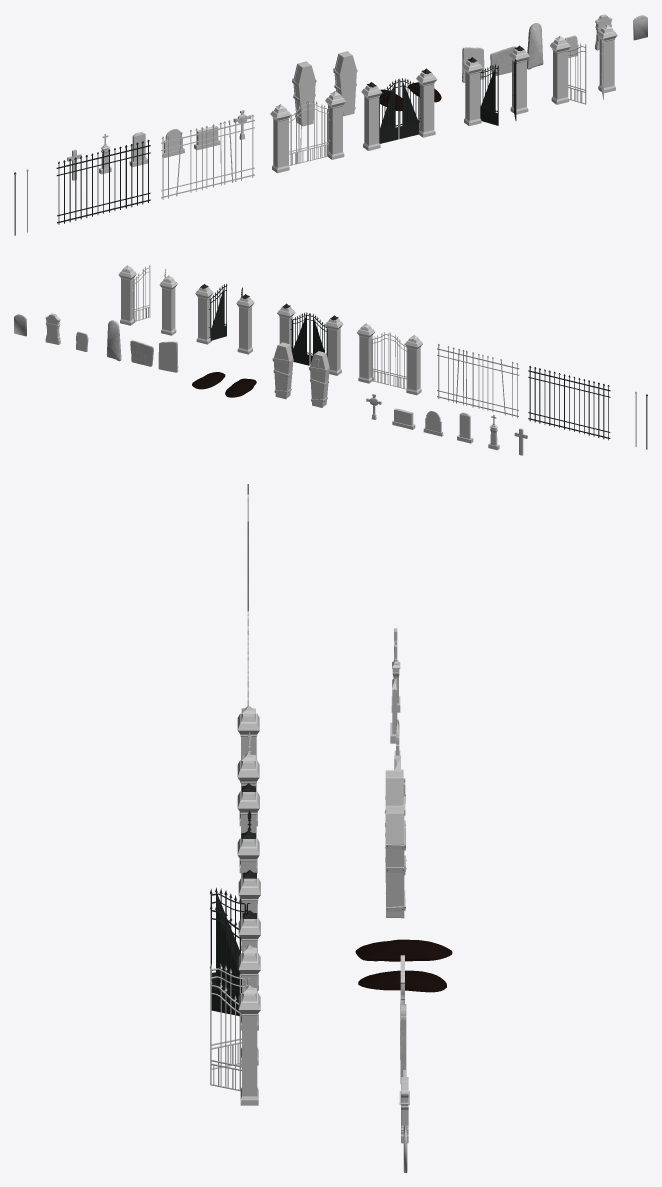
File: uploads_files_3453089_Cemetery.obj
3 views of the same model, one above another, from view 1: azimuth 30°, elevation 25°; view 2: azimuth 150°, elevation 25°; view 3: azimuth 270°, elevation 25° (orthographic). The views are drawn at different scales.
Visible parts, largest first — view 1: New_Cemetery_Gate_Closed, Old_Cemetery_Gate_Closed, New_Cemetery_Gate_Open, Old_Cemetery_Gate_Open, New_Fence, Old_Fence, Wooden_Coffin_With_a_Cross, Wooden_Coffin_Wooden_Coffin_, Headstone_4, Headstone_5, Headstone_8, Headstone_6 (+3 smaller); view 2: Old_Cemetery_Gate_Closed, New_Cemetery_Gate_Closed, New_Cemetery_Gate_Open, Old_Cemetery_Gate_Open, New_Fence, Old_Fence, Wooden_Coffin_Wooden_Coffin_, Wooden_Coffin_With_a_Cross, Headstone_6, Headstone_5, Headstone_4, Headstone_2 (+5 smaller); view 3: Old_Cemetery_Gate_Open, New_Cemetery_Gate_Open, Wooden_Coffin_Wooden_Coffin_, Grave_Ground_1, New_Cemetery_Gate_Closed, Old_Cemetery_Gate_Closed, Grave_Ground_2.
Boxes of the visible parts, x1=… form: New_Cemetery_Gate_Closed: x1=361, y1=68, x2=437, y2=150; Old_Cemetery_Gate_Closed: x1=270, y1=90, x2=345, y2=173; New_Cemetery_Gate_Open: x1=462, y1=45, x2=529, y2=126; Old_Cemetery_Gate_Open: x1=550, y1=24, x2=617, y2=104; New_Fence: x1=56, y1=139, x2=150, y2=224; Old_Fence: x1=161, y1=114, x2=254, y2=199; Wooden_Coffin_With_a_Cross: x1=292, y1=61, x2=316, y2=126; Wooden_Coffin_Wooden_Coffin_: x1=333, y1=51, x2=357, y2=116; Headstone_4: x1=527, y1=23, x2=543, y2=69; Headstone_5: x1=490, y1=46, x2=516, y2=75; Headstone_8: x1=129, y1=132, x2=147, y2=167; Headstone_6: x1=462, y1=47, x2=484, y2=82; Old_Cemetery_Gate_Closed: x1=357, y1=323, x2=422, y2=395; New_Cemetery_Gate_Closed: x1=277, y1=303, x2=343, y2=375; New_Cemetery_Gate_Open: x1=195, y1=283, x2=254, y2=354; Old_Cemetery_Gate_Open: x1=118, y1=265, x2=177, y2=335; New_Fence: x1=528, y1=366, x2=610, y2=440; Old_Fence: x1=437, y1=344, x2=519, y2=418; Wooden_Coffin_Wooden_Coffin_: x1=272, y1=342, x2=293, y2=399; Wooden_Coffin_With_a_Cross: x1=308, y1=351, x2=329, y2=407; Headstone_6: x1=158, y1=341, x2=178, y2=372; Headstone_5: x1=130, y1=340, x2=153, y2=366; Headstone_4: x1=106, y1=320, x2=121, y2=361; Headstone_2: x1=45, y1=313, x2=60, y2=344; Old_Cemetery_Gate_Open: x1=210, y1=944, x2=260, y2=1105; New_Cemetery_Gate_Open: x1=210, y1=870, x2=260, y2=1030; Wooden_Coffin_Wooden_Coffin_: x1=385, y1=805, x2=406, y2=918; Grave_Ground_1: x1=355, y1=939, x2=452, y2=961; New_Cemetery_Gate_Closed: x1=237, y1=783, x2=259, y2=950; Old_Cemetery_Gate_Closed: x1=237, y1=705, x2=259, y2=873; Grave_Ground_2: x1=358, y1=970, x2=446, y2=992.
Size of the model in its own units: 103 by 9.93 by 18.19.
